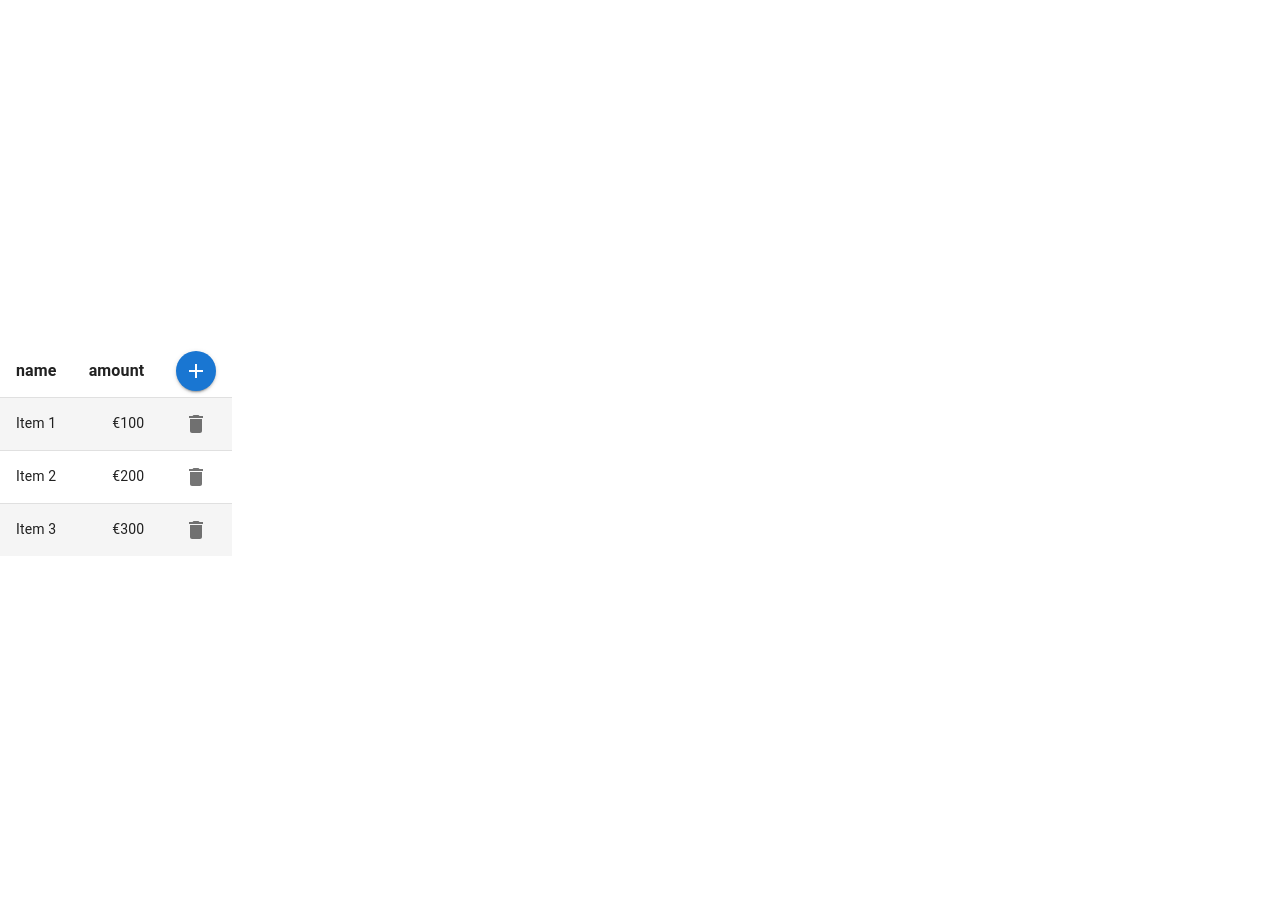
Test: AssetDataTable › opens delete confirmation dialog when delete button is clicked
Note: When onDelete is provided, the second icon button per row is delete
Click the button without text in the row of "Item 1" at {"x": 196, "y": 424}, box [176,404,216,444]
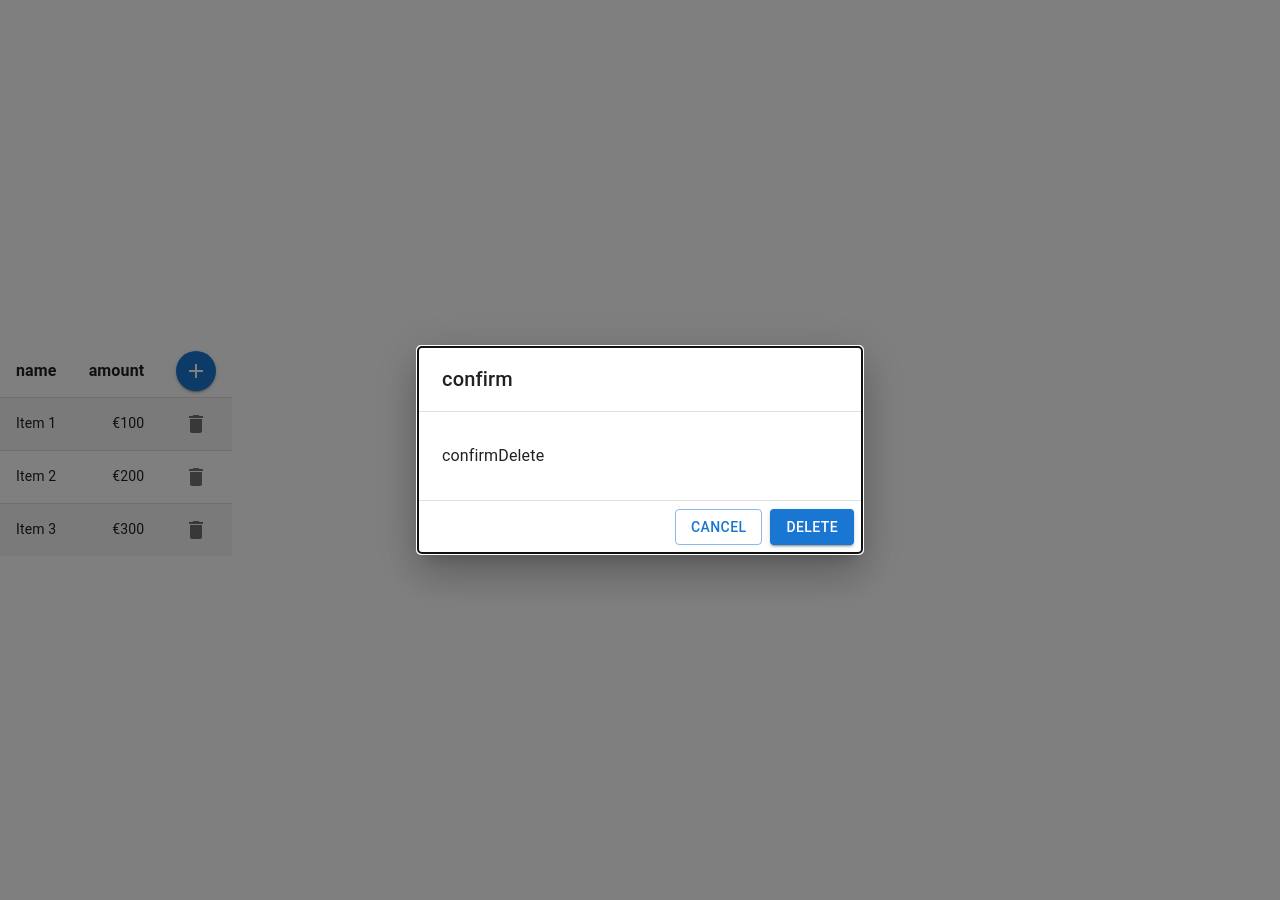
Result: the text "confirmDelete" is shown at [442,446,544,465]
